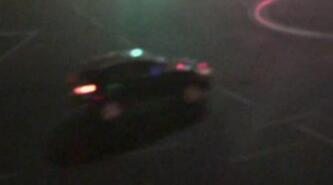car: (48, 50, 212, 158)
